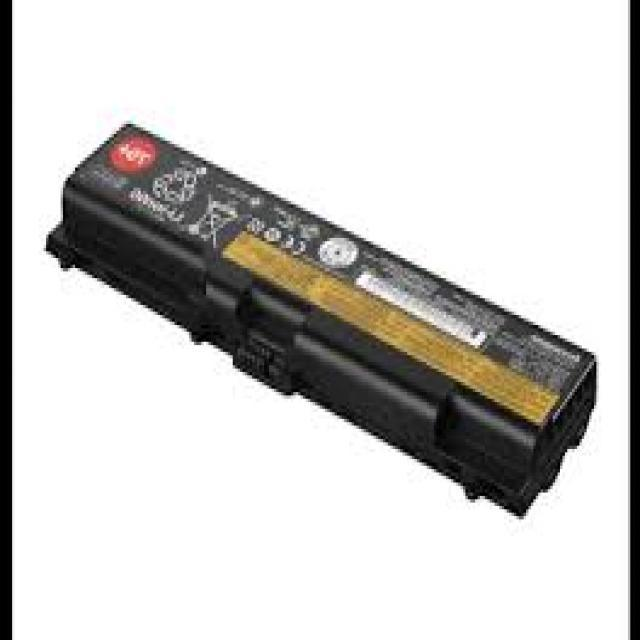battery: (46, 114, 600, 522)
